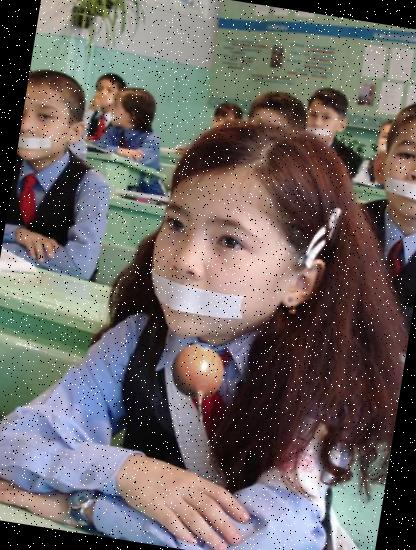Granadilla: (150, 338, 240, 428)
